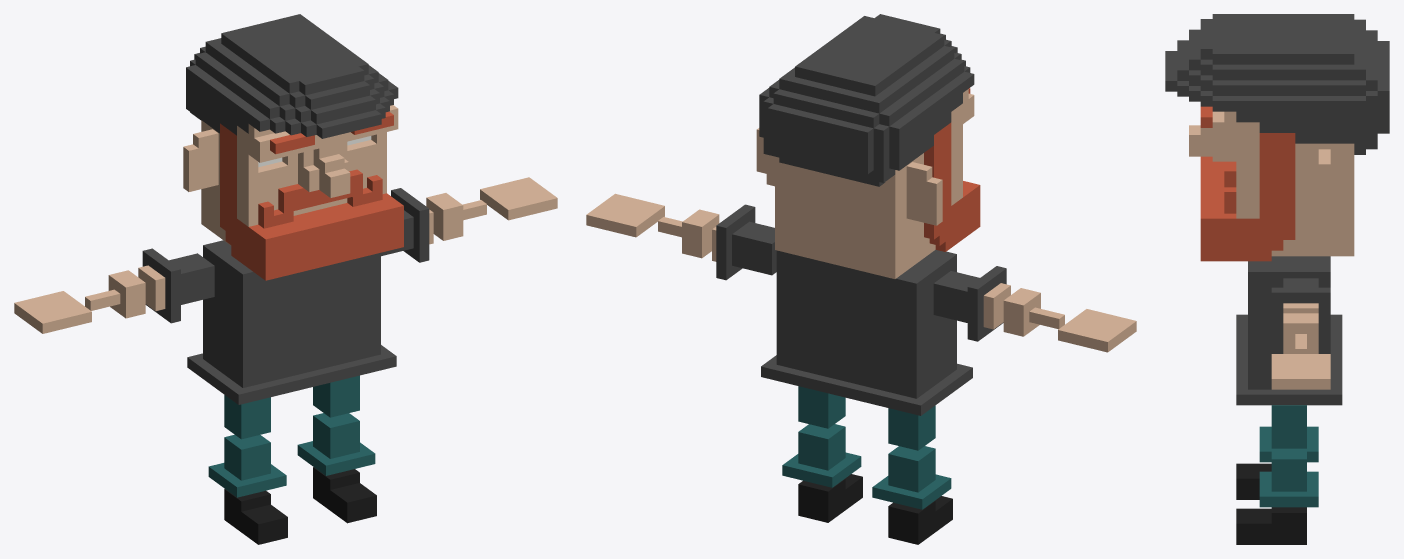
File: SM_George_A2_ML.obj
The picture shows the model from 3 angles, left to right: view 1: azimuth 30°, elevation 25°; view 2: azimuth 150°, elevation 25°; view 3: azimuth 270°, elevation 25°; orthographic projection. The views are drawn at different scales.
Visible parts, largest first — view 1: polySurface16; view 2: polySurface16; view 3: polySurface16.
Part boxes in pixels (x1,y1,x2,y2): polySurface16: (14, 14, 557, 544); polySurface16: (586, 14, 1136, 544); polySurface16: (1165, 14, 1389, 544).
Size of the model in its own units: 5.21 by 4.5 by 1.9.
1 material, 1 textured.
